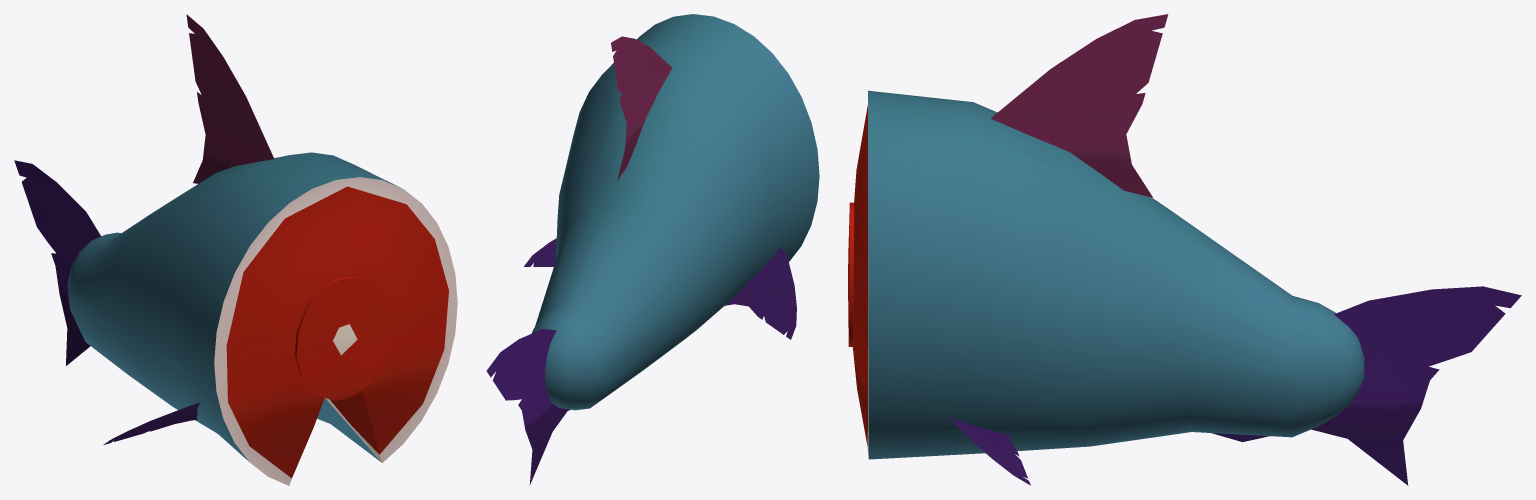
The model's file is Peixe.glb.
The picture shows the model from 3 angles, left to right: view 1: azimuth 30°, elevation 25°; view 2: azimuth 150°, elevation 25°; view 3: azimuth 270°, elevation 25°; orthographic projection. The views are drawn at different scales.
Visible parts, largest first — view 1: Peixe; view 2: Peixe; view 3: Peixe.
Boxes of the visible parts, <box> form: Peixe: <box>14,14,457,485</box>; Peixe: <box>486,14,819,485</box>; Peixe: <box>848,14,1521,485</box>.
Size of the model in its own units: 1.1 by 1.47 by 1.87.
1 material, 1 textured.
